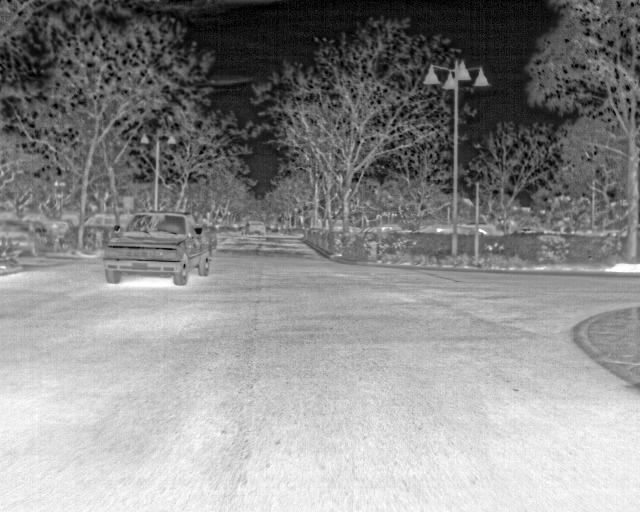car: (104, 210, 216, 287), (242, 219, 265, 238)
